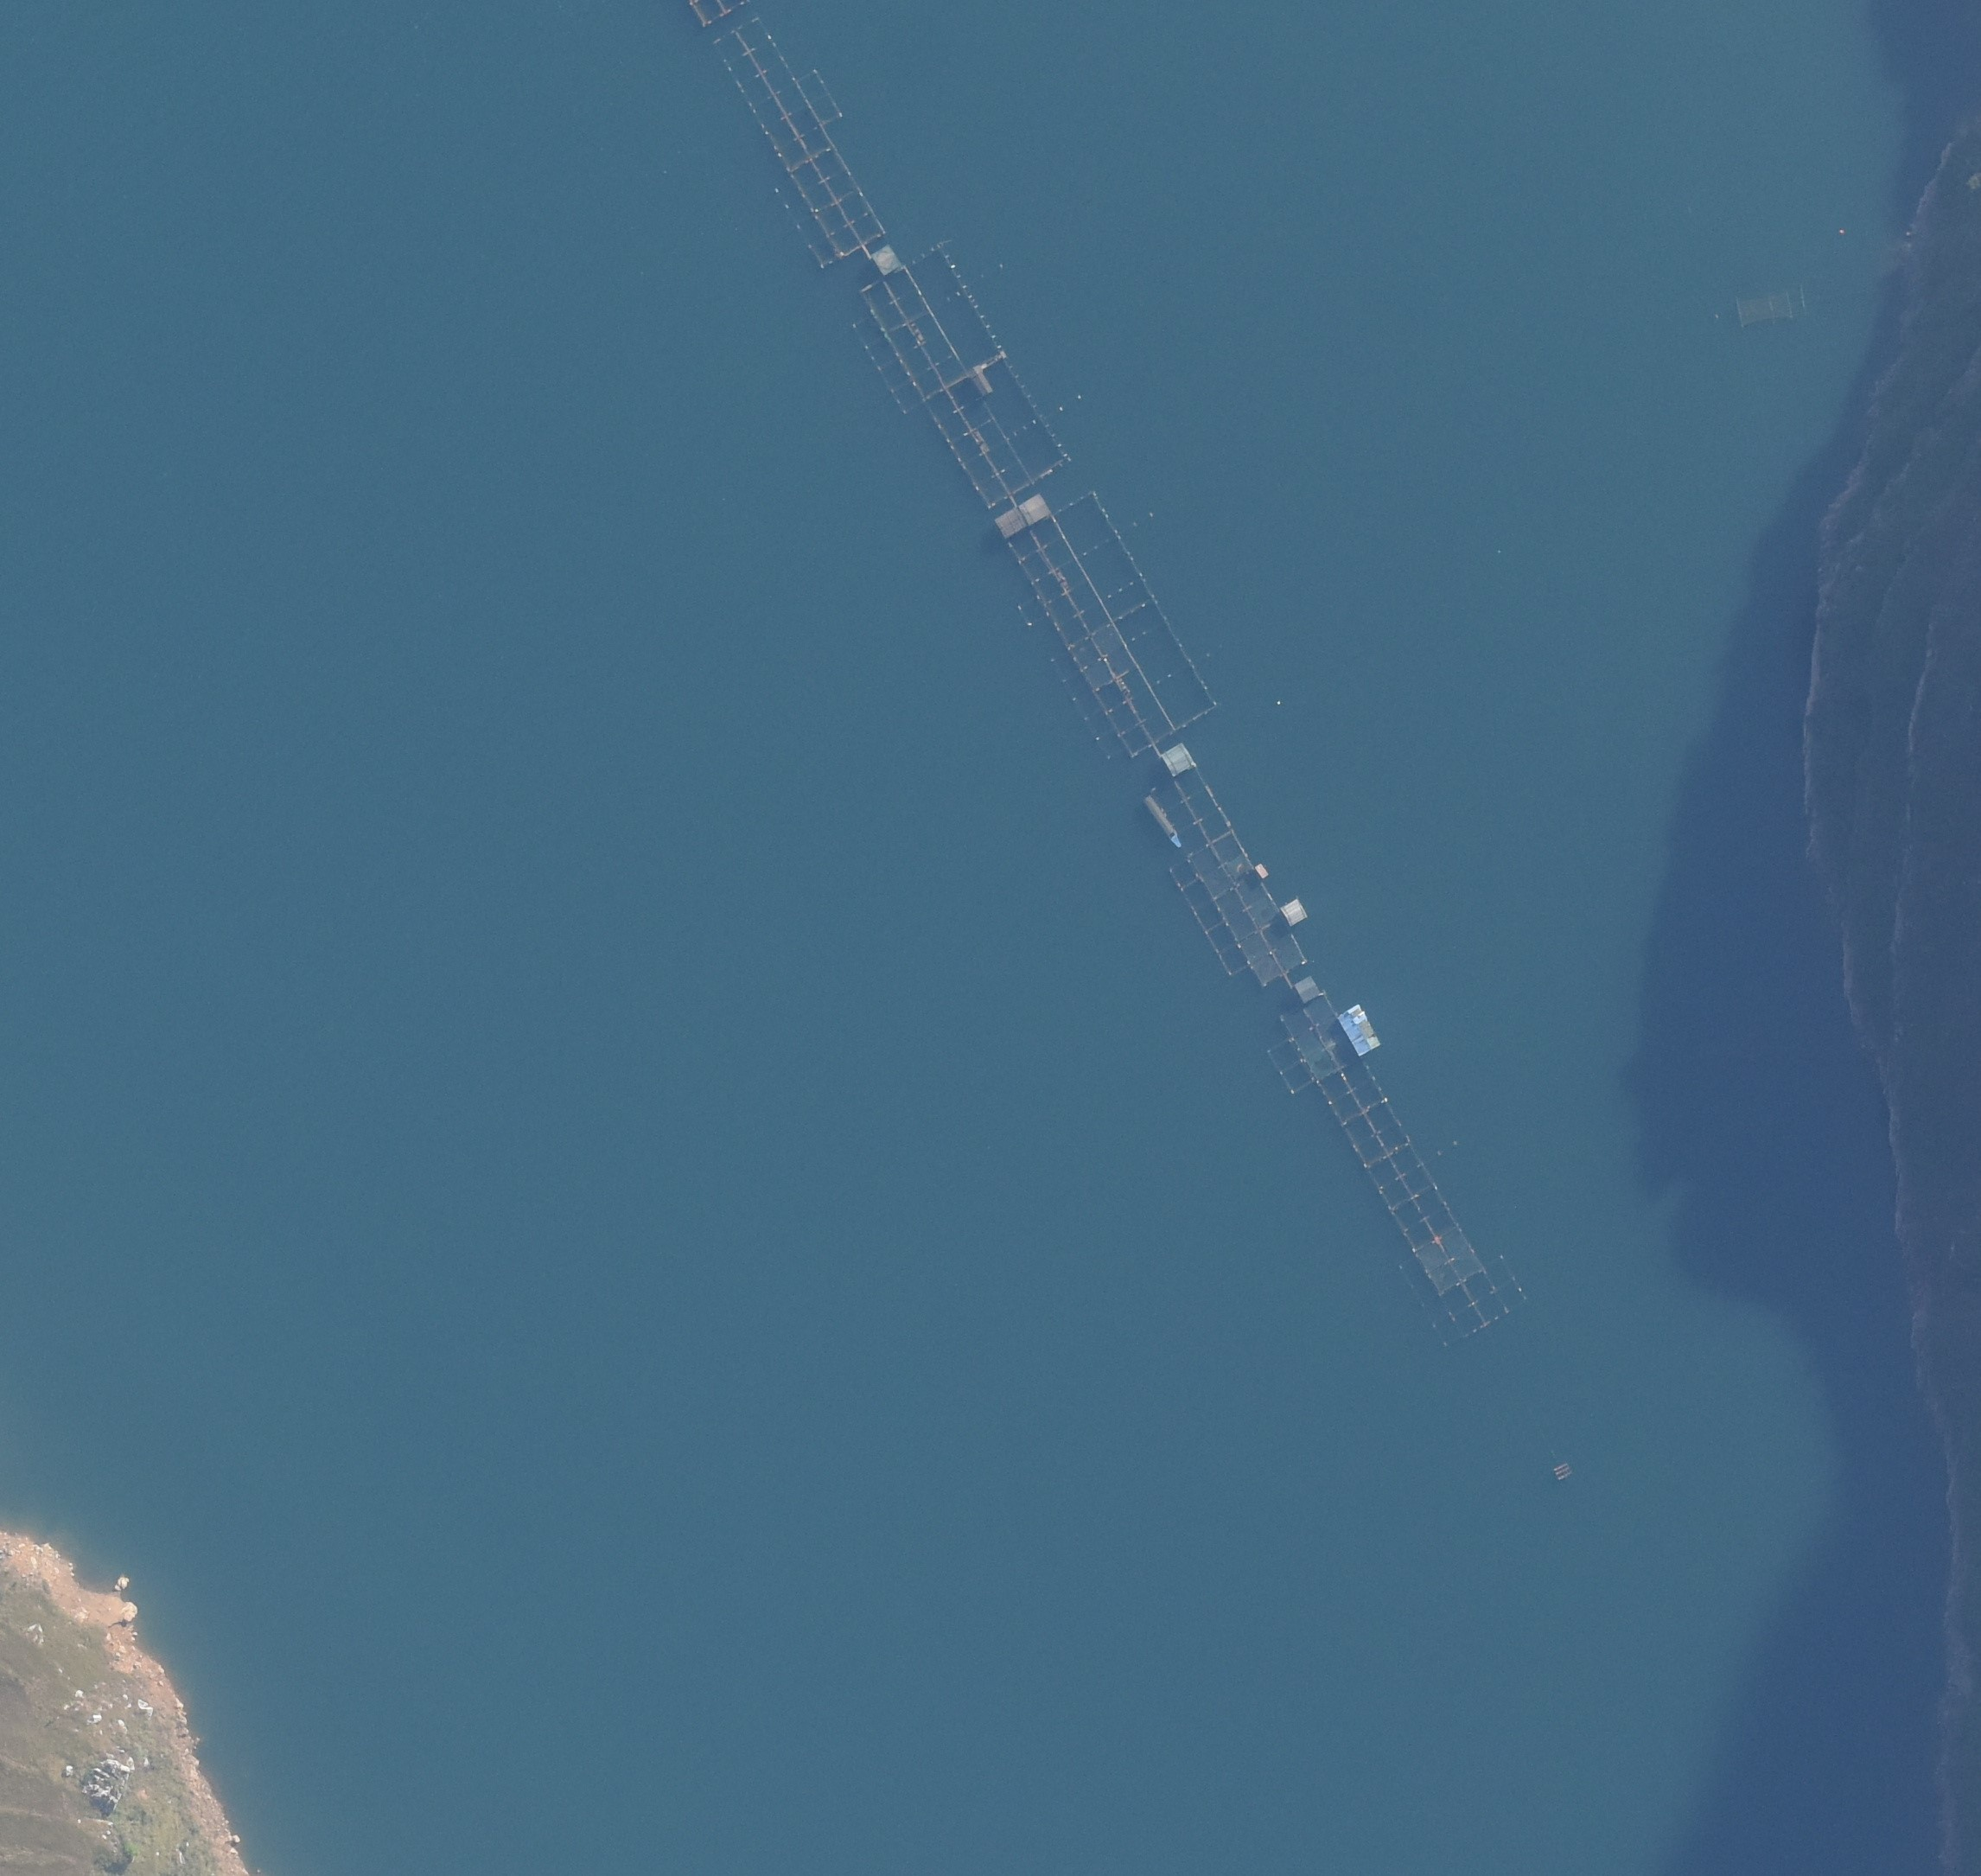cultivation-mesh-cage: (1271, 994, 1521, 1349), (851, 242, 1073, 502), (1013, 490, 1216, 767), (710, 11, 888, 264), (1142, 763, 1306, 989)
prefabricated-house: (994, 494, 1052, 541), (1341, 1003, 1380, 1060), (1158, 741, 1193, 778), (1294, 973, 1320, 1007), (872, 243, 897, 277), (971, 363, 992, 398), (1283, 899, 1306, 927), (1255, 859, 1267, 880)
ship: (1144, 797, 1183, 848)
